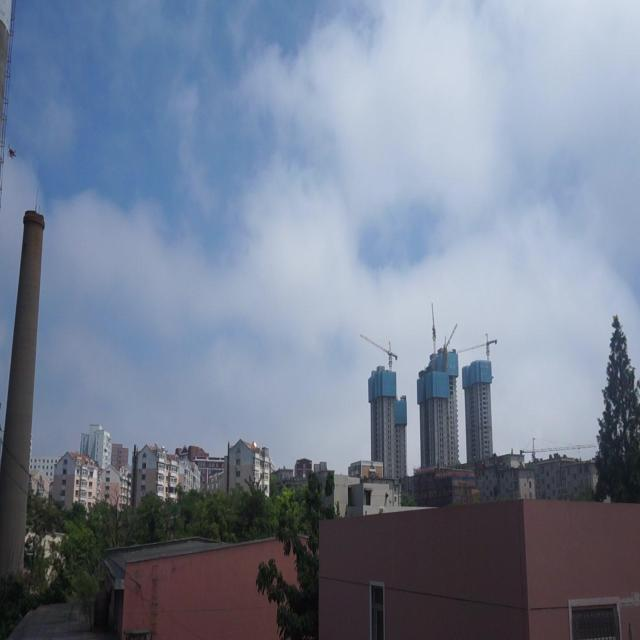drone: (5, 141, 19, 164)
